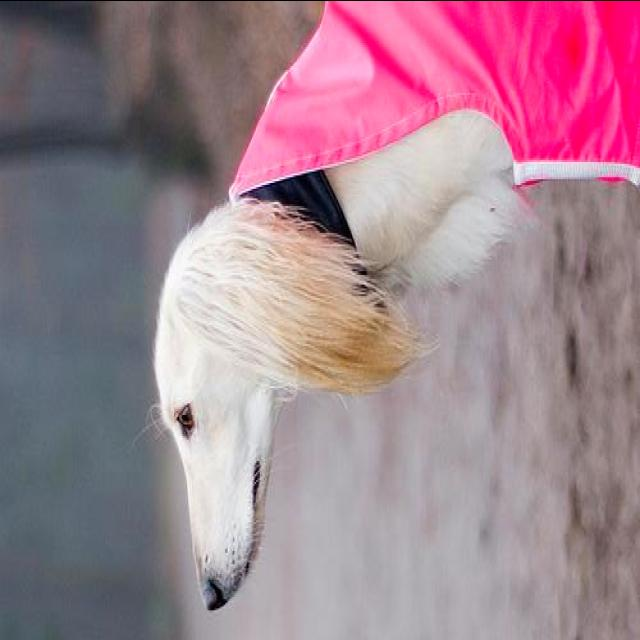saluki: (132, 4, 638, 619)
